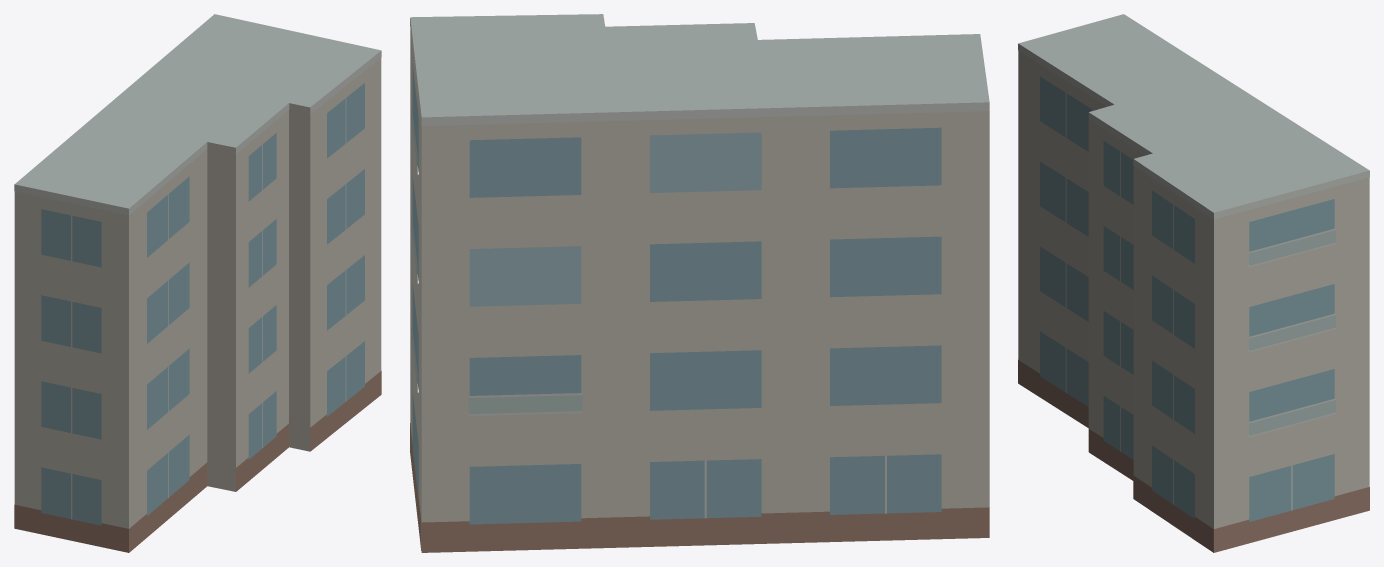
Rendered from survey-upis-32763531.glb.
3 views of the same model, side by side, from view 1: azimuth 30°, elevation 25°; view 2: azimuth 150°, elevation 25°; view 3: azimuth 270°, elevation 25° (orthographic). The views are drawn at different scales.
Visible parts, largest first — view 1: survey-upis-32763531.tmp; view 2: survey-upis-32763531.tmp; view 3: survey-upis-32763531.tmp.
Boxes of the visible parts, x1=… form: survey-upis-32763531.tmp: x1=14, y1=14, x2=381, y2=552; survey-upis-32763531.tmp: x1=410, y1=14, x2=989, y2=552; survey-upis-32763531.tmp: x1=1018, y1=14, x2=1369, y2=552.
Size of the model in its own units: 15.31 by 12.2 by 11.44.
